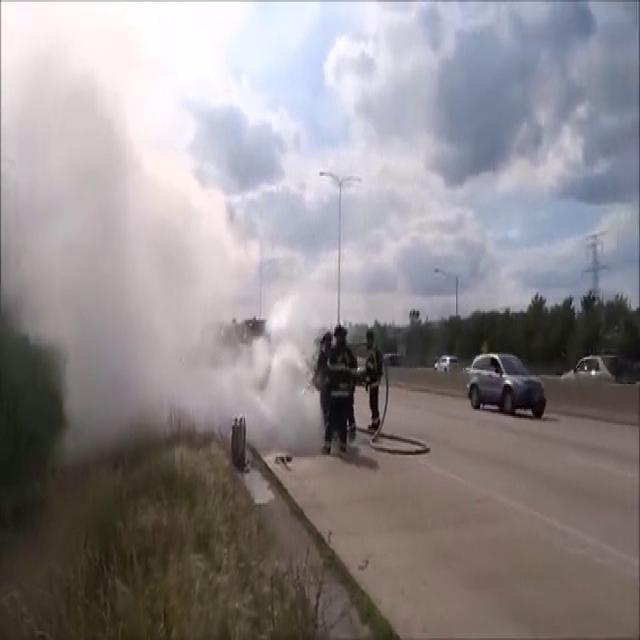Smoke: (2, 12, 316, 464)
